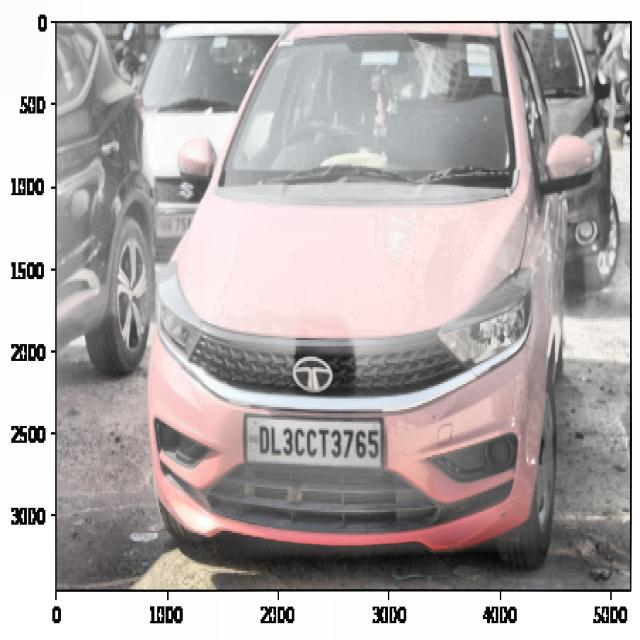license_plate: (254, 416, 383, 468)
